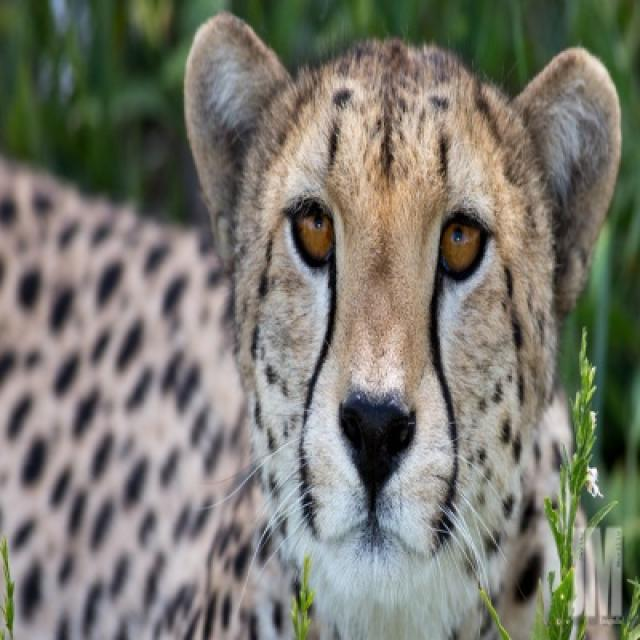Cheetah: (0, 13, 626, 638)
